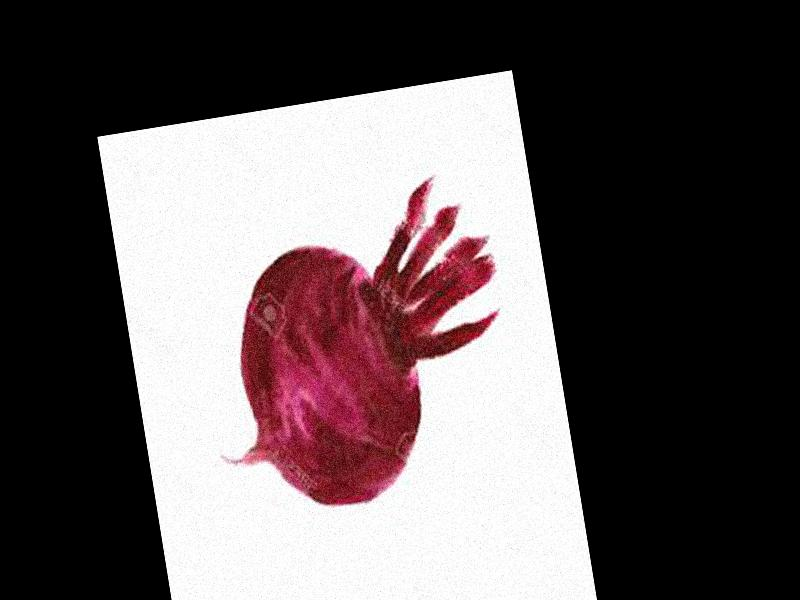Beet: (181, 170, 529, 526)
